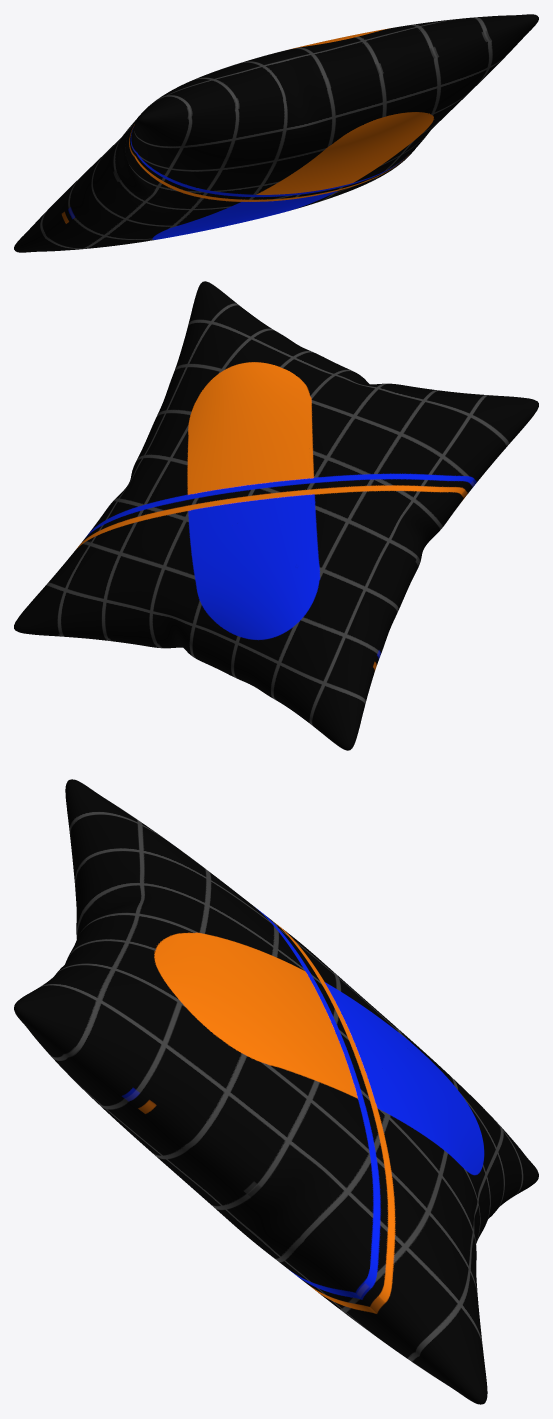
File: level3quilt.fbx
3 renders of one model, top to bottom at view 1: azimuth 30°, elevation 25°; view 2: azimuth 150°, elevation 25°; view 3: azimuth 270°, elevation 25°, orthographic. The views are drawn at different scales.
Parts seen in each view (by area): view 1: Plane; view 2: Plane; view 3: Plane.
Part boxes in pixels (left/top/right/bottom): Plane: left=14, top=14, right=538, bottom=252; Plane: left=14, top=281, right=538, bottom=750; Plane: left=14, top=779, right=538, bottom=1404.
Bounding box in the file's own units: 316 × 208 × 242.
